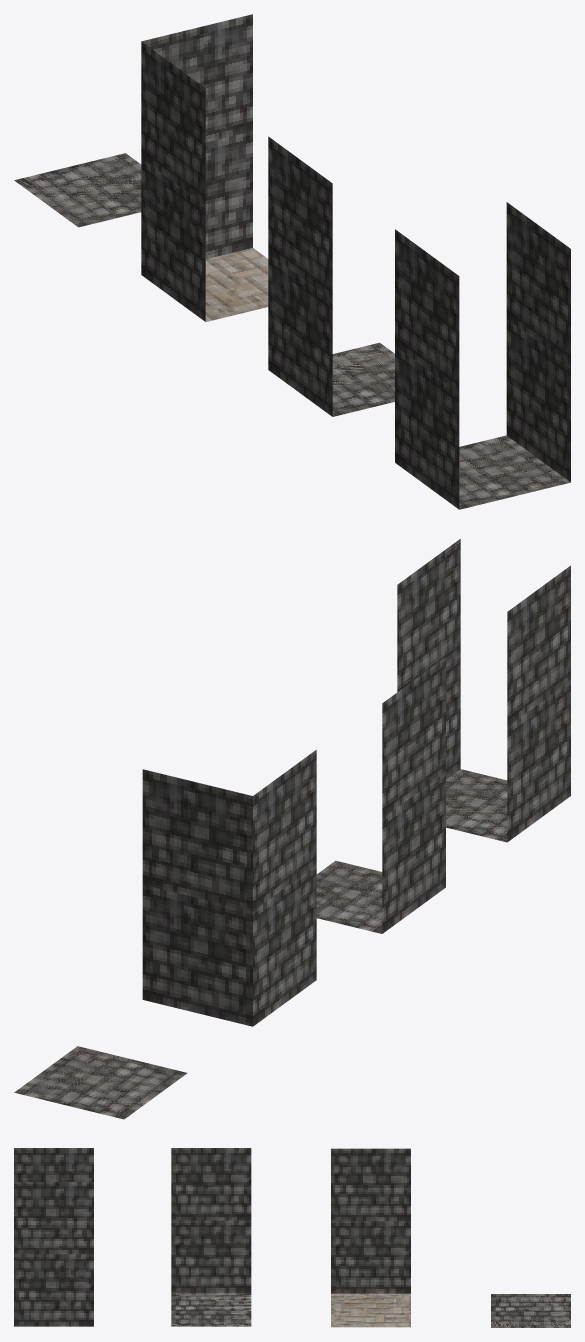
The model's file is structure2.glb.
3 views of the same model, one above another, from view 1: azimuth 30°, elevation 25°; view 2: azimuth 150°, elevation 25°; view 3: azimuth 270°, elevation 25° (orthographic). The views are drawn at different scales.
Visible parts, largest first — view 1: doublewall-col, connerin-topless-col, wall-topless-col, floor-topless-col; view 2: connerin-topless-col, doublewall-col, wall-topless-col, floor-topless-col; view 3: wall-topless-col, connerin-topless-col, doublewall-col, floor-topless-col.
Part boxes in pixels (x1,y1,x2,y2): doublewall-col: (395, 202, 570, 509); connerin-topless-col: (141, 14, 268, 321); wall-topless-col: (268, 136, 394, 416); floor-topless-col: (14, 153, 141, 227); connerin-topless-col: (142, 750, 316, 1026); doublewall-col: (397, 539, 570, 842); wall-topless-col: (316, 657, 445, 933); floor-topless-col: (14, 1046, 187, 1119); wall-topless-col: (171, 1148, 251, 1326); connerin-topless-col: (331, 1148, 410, 1327); doublewall-col: (14, 1148, 93, 1326); floor-topless-col: (491, 1294, 570, 1327).
Bounding box in the file's own units: 1.03 × 2 × 6.97.
1 material, 1 textured.
